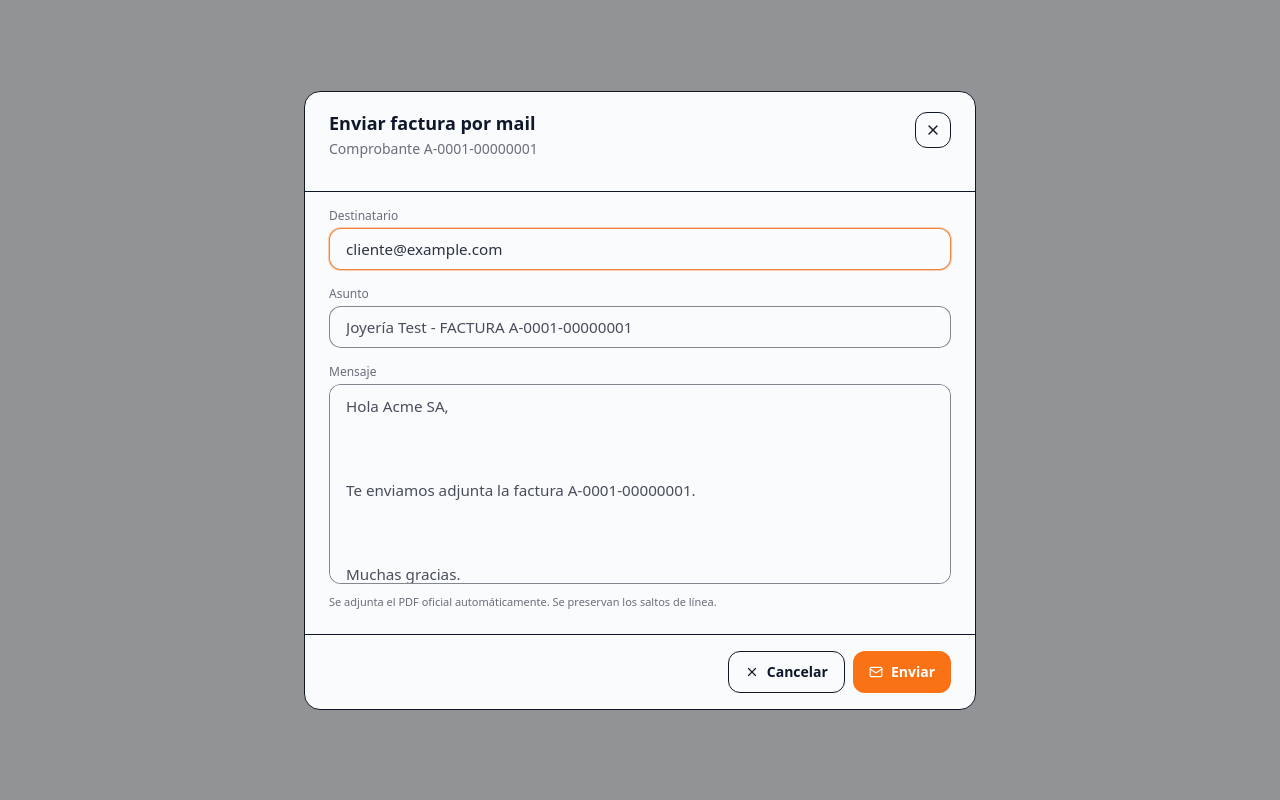
Test case: SendInvoiceEmailModal — validaciones inline › email invalido al editar → error visible y boton deshabilitado
Step 1. Replace the text in the field below "Destinatario" with "no-es-un-email" → (640, 248), box [329, 227, 951, 269]
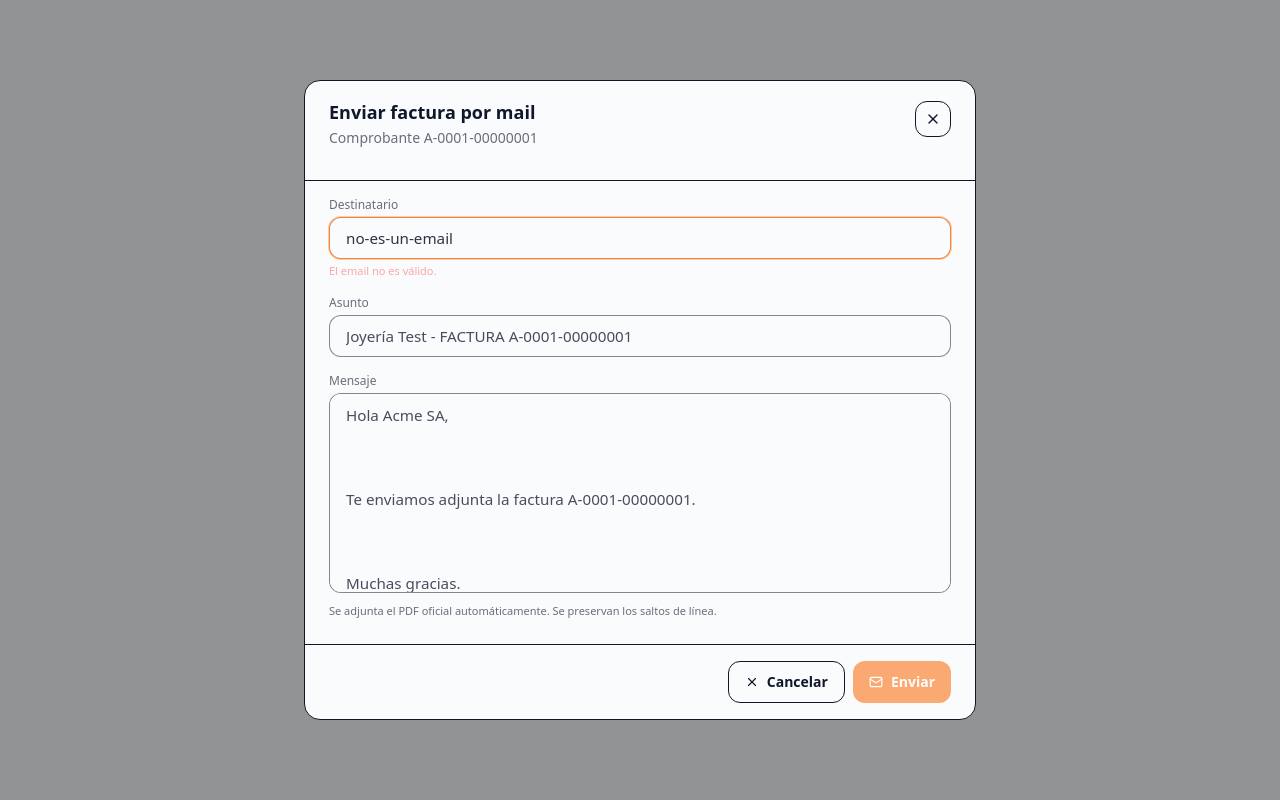
Now the text "El email no es válido." is shown, box [329, 263, 436, 278]
Now the button "Enviar" is disabled, box [853, 661, 951, 703]
